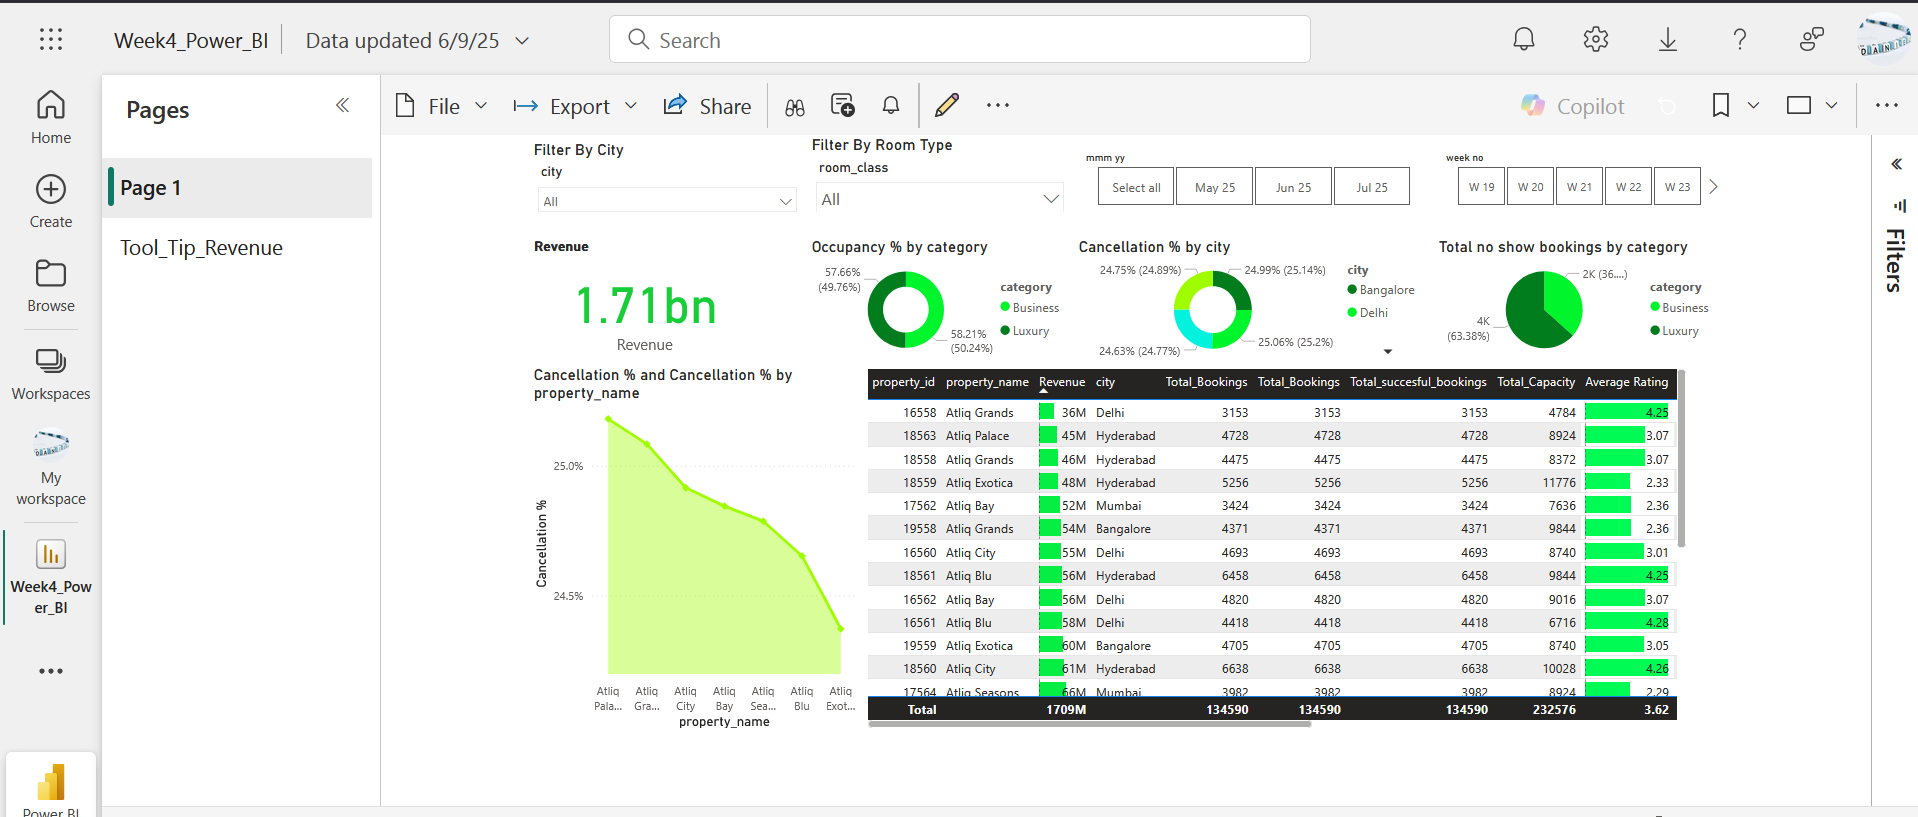

The page's visual inventory and layout, read from the dashboard file:
{"tool":"powerbi","page":{"name":"Page 1","canvas":[1280,720],"ordinal":0},"visuals":[{"type":"tableEx","fields":{"Values":["dim_hotels.property_id","dim_hotels.property_name","key_measures.Revenue","dim_hotels.city","key_measures.Total_Bookings","key_measures.Total_Bookings","key_measures.Total_succesful_bookings","key_measures.Total_Capacity","key_measures.Average Rating","key_measures.Total Checked Out","key_measures.Total cancelled bookings","key_measures.Total no show bookings"]},"box":[357.8,246.1,889,395.1],"z":0},{"type":"slicer","title":"Filter By City","fields":{"Values":["dim_hotels.city"]},"box":[0,0,297.9,82.6],"z":1000},{"type":"slicer","title":"Filter By Room Type","fields":{"Values":["dim_rooms.room_class"]},"box":[297.9,0,286.6,82.6],"z":2000},{"type":"slicer","fields":{"Values":["dim_date.mmm yy"]},"box":[584.5,11.3,385.4,71.2],"z":3000},{"type":"slicer","fields":{"Values":["dim_date.week no"]},"box":[969.9,11.3,310.9,71.2],"z":4000},{"type":"card","title":"Revenue","fields":{"Values":["key_measures.Revenue"]},"box":[0,110.1,247.7,136],"z":5000},{"type":"donutChart","fields":{"Category":["dim_hotels.category"],"Y":["key_measures.Occupancy %"]},"box":[297.9,110.1,286.6,136],"z":6000},{"type":"donutChart","fields":{"Y":["key_measures.Cancellation %"],"Series":["dim_hotels.city"]},"box":[584.5,110.1,385.4,136],"z":7000},{"type":"pieChart","fields":{"Y":["key_measures.Total no show bookings"],"Series":["dim_hotels.category"]},"box":[969.9,110.1,310.9,136],"z":8000},{"type":"areaChart","fields":{"Category":["dim_hotels.property_name"],"Y":["key_measures.Cancellation %"]},"box":[0,246.1,357.8,395.1],"z":9000}]}

Visuals, with their boxes on the page's 1280x720 design canvas (x1, y1, x2, y2). These are canvas units, not pixel positions in the 1918x817 screenshot, which may show the page scaled, cropped or inside an application window:
tableEx - dim_hotels.property_id x dim_hotels.property_name: (left=358, top=246, right=1247, bottom=641)
"Filter By City" slicer: (left=0, top=0, right=298, bottom=83)
"Filter By Room Type" slicer: (left=298, top=0, right=584, bottom=83)
slicer - dim_date.mmm yy: (left=584, top=11, right=970, bottom=82)
slicer - dim_date.week no: (left=970, top=11, right=1281, bottom=82)
"Revenue" card: (left=0, top=110, right=248, bottom=246)
donutChart - dim_hotels.category x key_measures.Occupancy %: (left=298, top=110, right=584, bottom=246)
donutChart - key_measures.Cancellation % x dim_hotels.city: (left=584, top=110, right=970, bottom=246)
pieChart - key_measures.Total no show bookings x dim_hotels.category: (left=970, top=110, right=1281, bottom=246)
areaChart - dim_hotels.property_name x key_measures.Cancellation %: (left=0, top=246, right=358, bottom=641)
